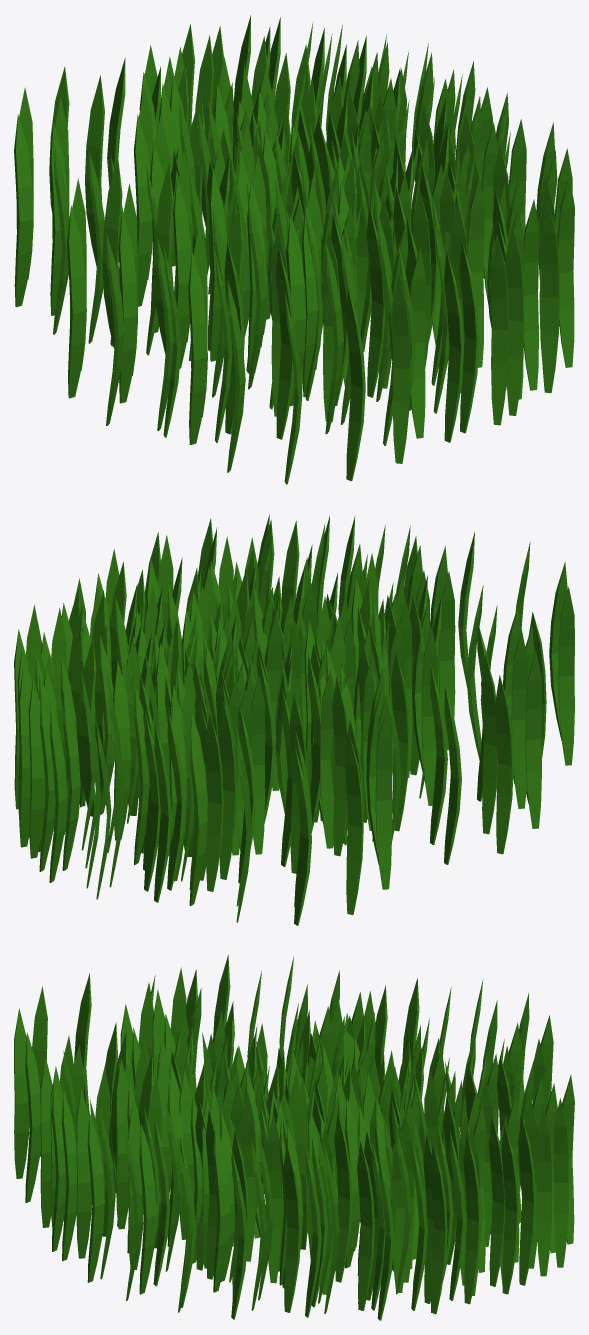
The model's file is herbe haute .fbx.
3 views of the same model, one above another, from view 1: azimuth 30°, elevation 25°; view 2: azimuth 150°, elevation 25°; view 3: azimuth 270°, elevation 25° (orthographic). The views are drawn at different scales.
Parts seen in each view (by area): view 1: tas d'herbe haute; view 2: tas d'herbe haute; view 3: tas d'herbe haute.
Boxes of the visible parts, x1,y1,x2,y2 form: tas d'herbe haute: [14, 15, 574, 484]; tas d'herbe haute: [14, 514, 574, 925]; tas d'herbe haute: [14, 955, 574, 1320].
Size of the model in its own units: 207 by 82.41 by 246.
